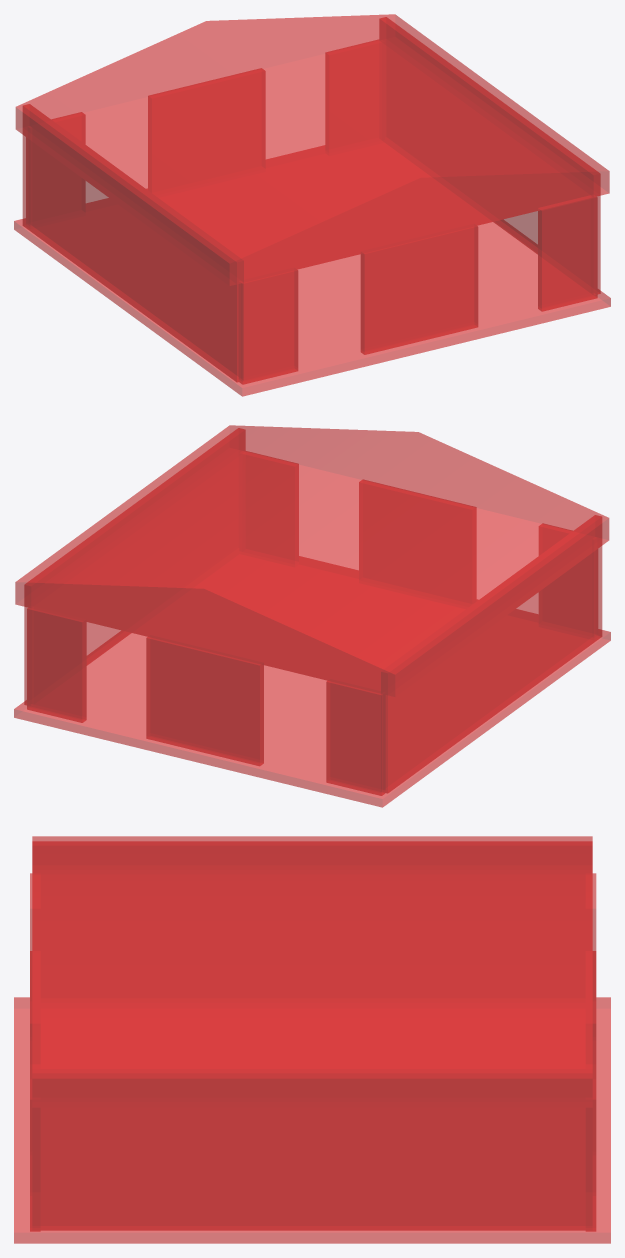
Rendered from SM_Bld_Warehouse_01_C_Collision.fbx.
3 renders of one model, top to bottom at view 1: azimuth 30°, elevation 25°; view 2: azimuth 150°, elevation 25°; view 3: azimuth 270°, elevation 25°, orthographic. The views are drawn at different scales.
Visible parts, largest first — view 1: SM_Bld_Warehouse_01_C_Collision; view 2: SM_Bld_Warehouse_01_C_Collision; view 3: SM_Bld_Warehouse_01_C_Collision.
Boxes of the visible parts, x1,y1,x2,y2 form: SM_Bld_Warehouse_01_C_Collision: (14,14,610,396); SM_Bld_Warehouse_01_C_Collision: (14,425,610,807); SM_Bld_Warehouse_01_C_Collision: (14,836,610,1243).
Size of the model in its own units: 2171 by 921 by 2261.
